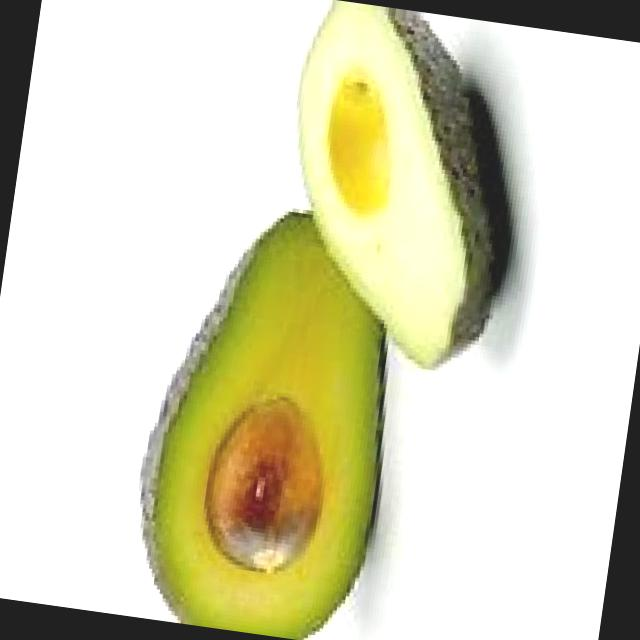avocado: (128, 181, 421, 640), (265, 0, 546, 389)
